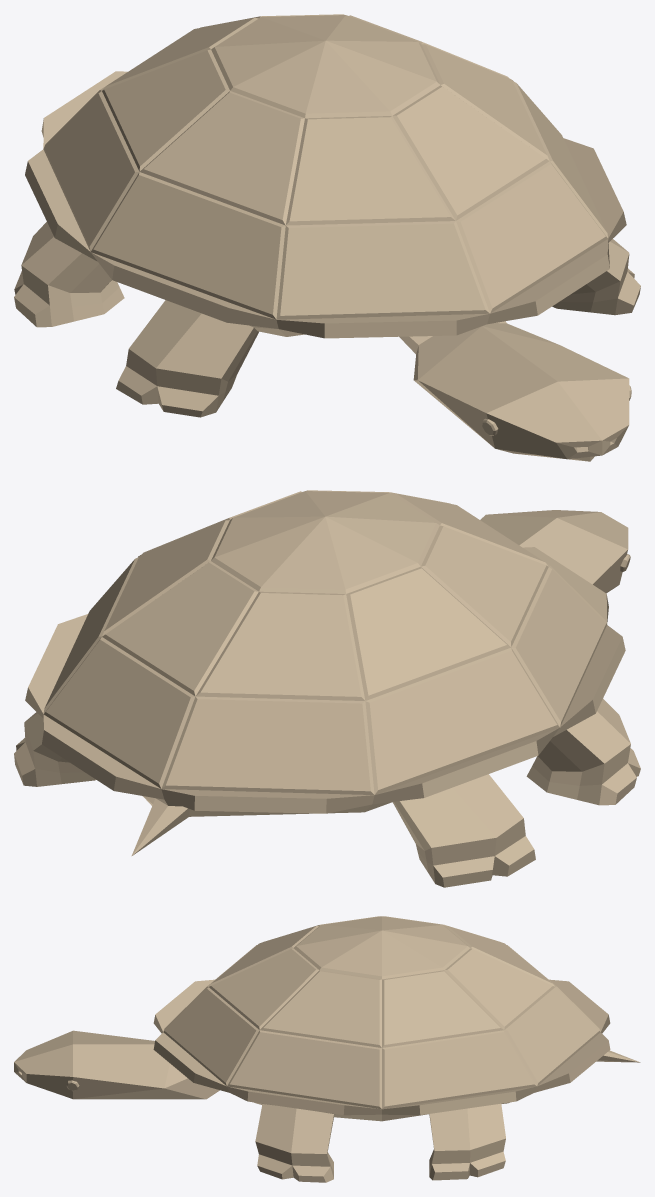
File: xuangui.glb
3 renders of one model, top to bottom at view 1: azimuth 30°, elevation 25°; view 2: azimuth 150°, elevation 25°; view 3: azimuth 270°, elevation 25°, orthographic. The views are drawn at different scales.
Visible parts, largest first — view 1: Turtle_01_Circle.009; view 2: Turtle_01_Circle.009; view 3: Turtle_01_Circle.009.
Boxes of the visible parts, <box> form: Turtle_01_Circle.009: <box>14,14,640,461</box>; Turtle_01_Circle.009: <box>14,490,640,887</box>; Turtle_01_Circle.009: <box>14,916,640,1182</box>.
Size of the model in its own units: 8.94 by 4.4 by 14.6.
